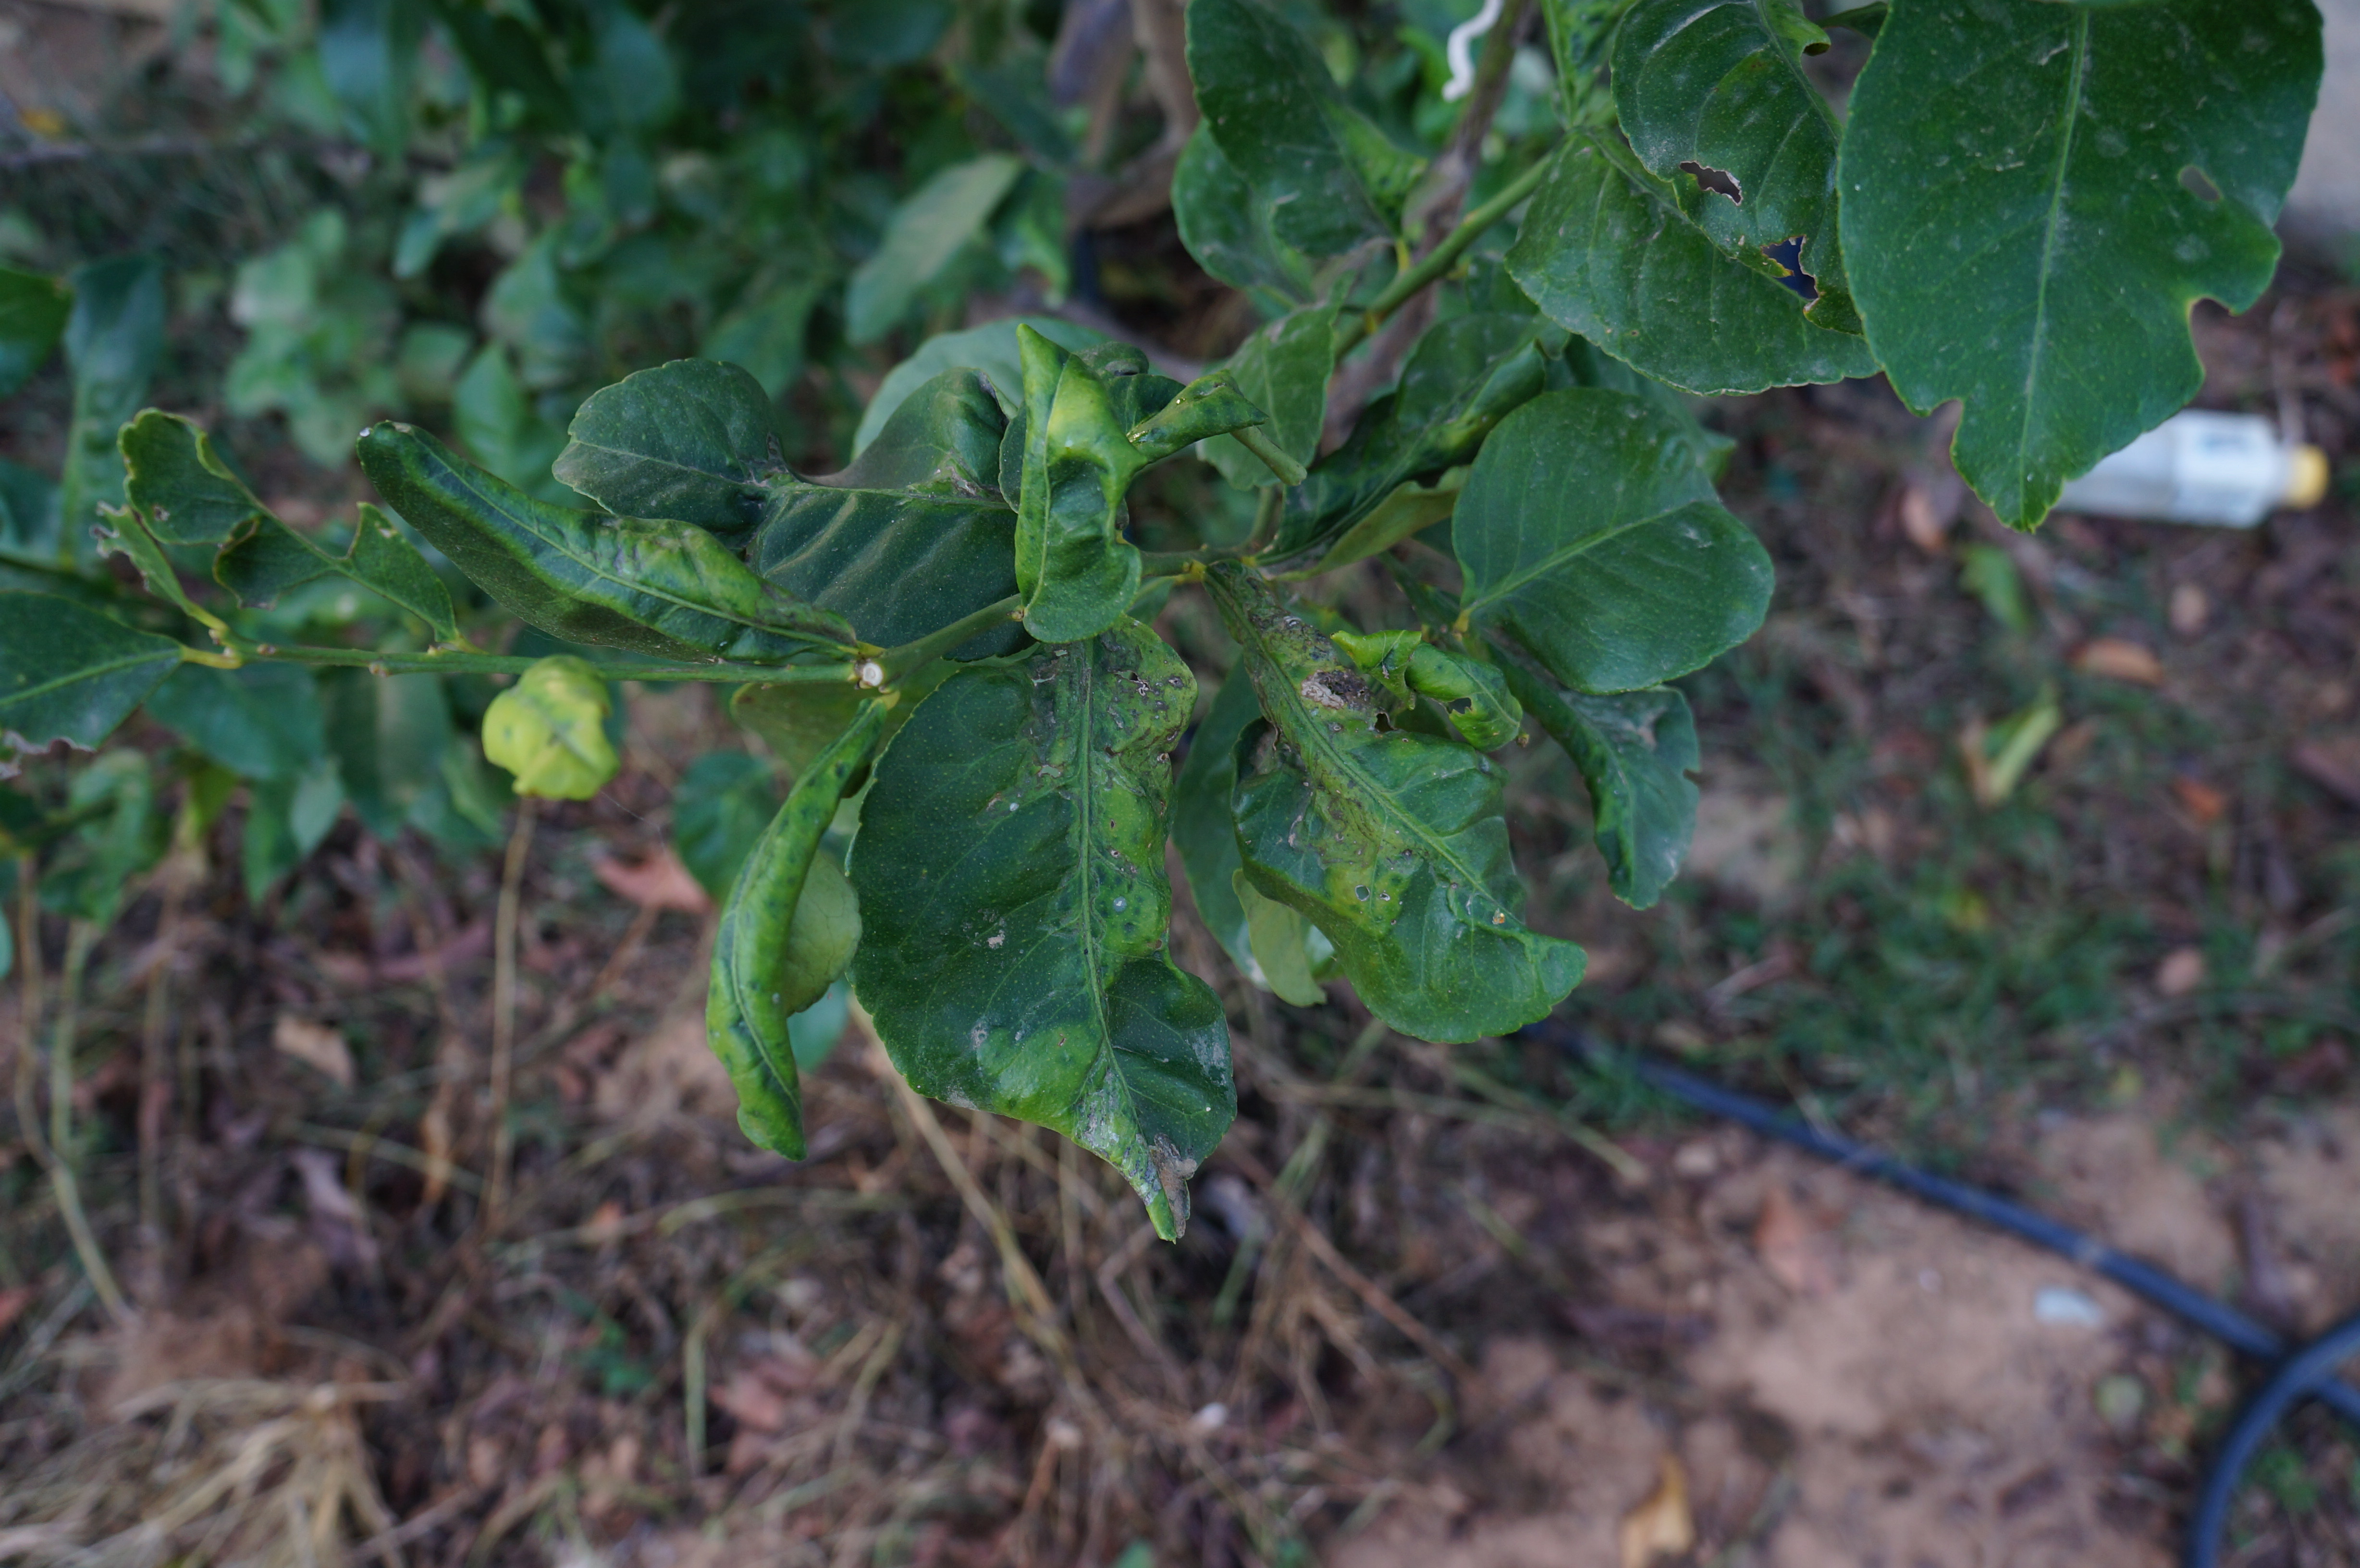curly: (338, 409, 901, 689), (677, 677, 908, 1167)
